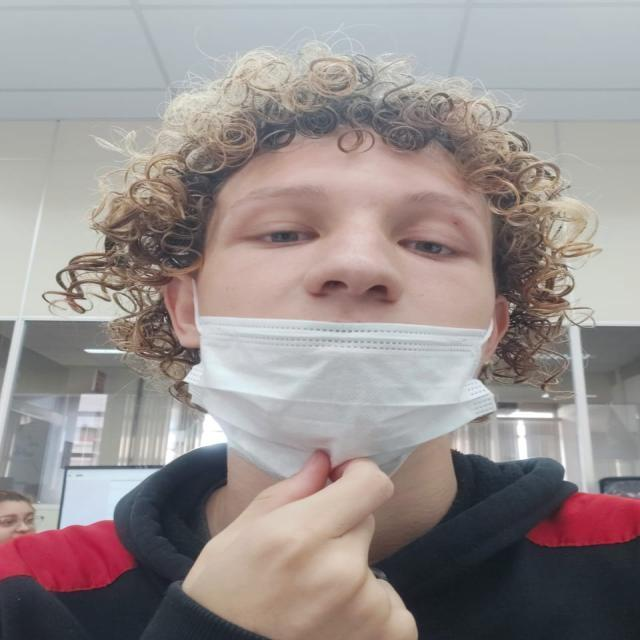hairnet: (217, 140, 480, 431)
